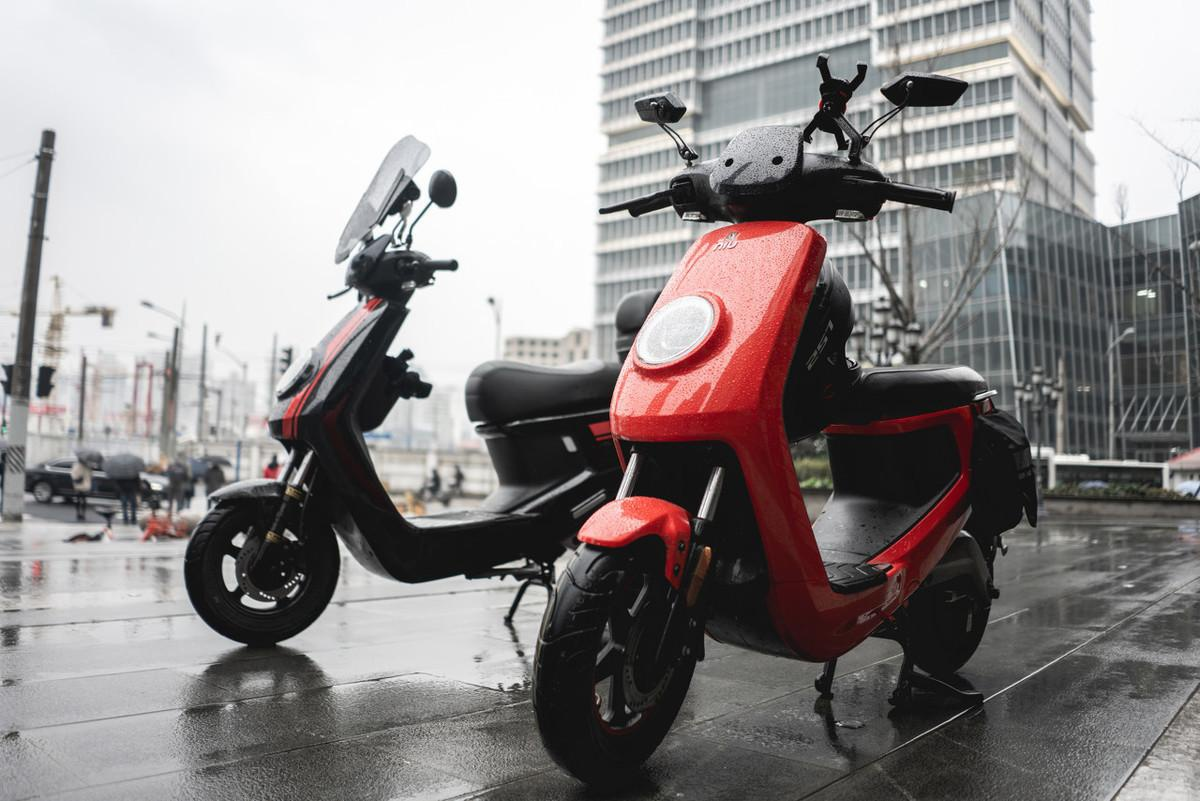non-vehicle: (534, 74, 1035, 786), (178, 179, 664, 654)
